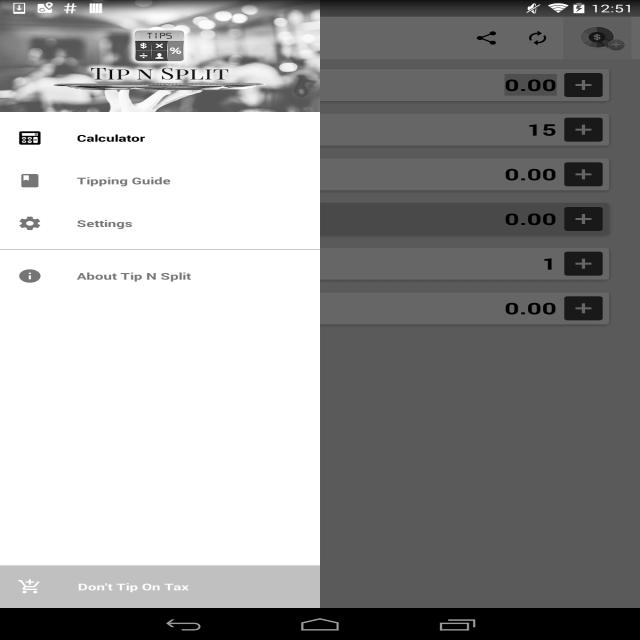EditText: (309, 252, 557, 276), (309, 74, 557, 96), (309, 163, 557, 185), (309, 208, 557, 230), (309, 297, 557, 319), (309, 119, 557, 140)
ImageButton: (9, 17, 68, 59)
ImageView: (0, 0, 320, 112), (52, 25, 266, 112), (563, 17, 632, 59), (0, 565, 64, 608), (263, 296, 302, 321), (564, 296, 603, 321), (263, 73, 302, 97), (564, 73, 603, 97), (263, 118, 302, 142), (564, 118, 603, 142), (263, 162, 302, 186), (564, 162, 603, 186), (263, 207, 302, 231), (564, 207, 603, 231), (263, 252, 302, 276), (564, 252, 603, 276)
TextView: (0, 159, 320, 202), (0, 202, 320, 245), (0, 565, 320, 608), (0, 117, 320, 159), (0, 255, 320, 297), (38, 123, 264, 136), (38, 168, 264, 181), (38, 257, 264, 270), (38, 302, 264, 315), (38, 79, 264, 91), (38, 213, 264, 225), (86, 29, 184, 47), (461, 22, 512, 54), (512, 22, 563, 54)
